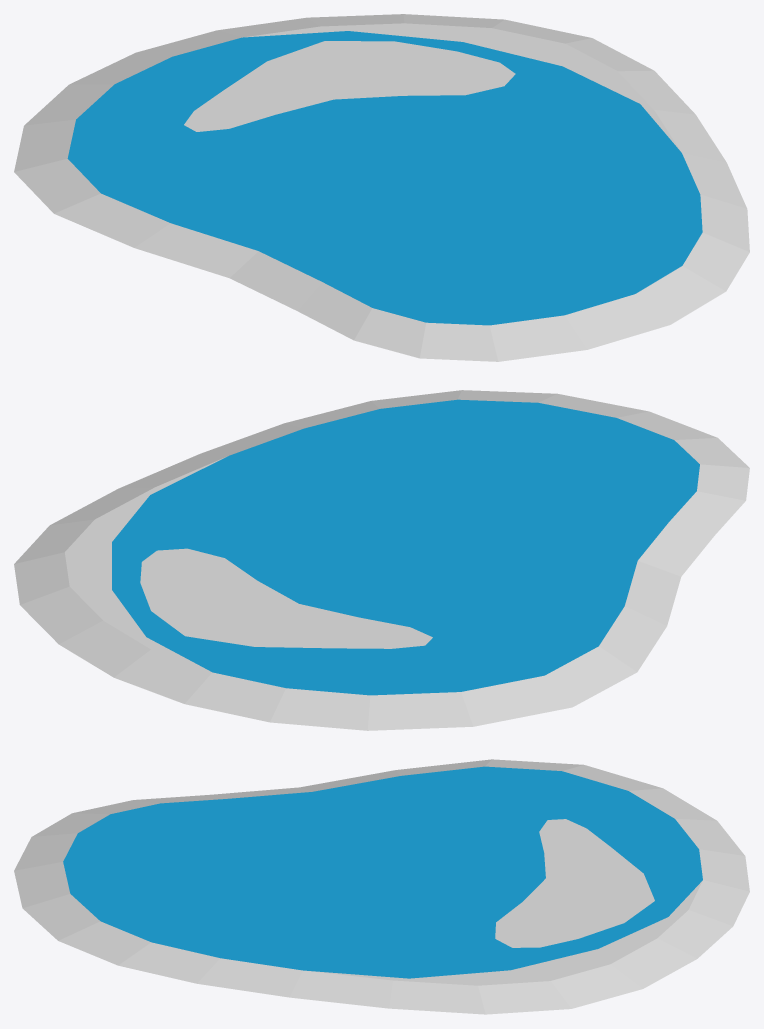
File: Water.fbx
The picture shows the model from 3 angles, top to bottom: view 1: azimuth 30°, elevation 25°; view 2: azimuth 150°, elevation 25°; view 3: azimuth 270°, elevation 25°; orthographic projection. The views are drawn at different scales.
Visible parts, largest first — view 1: Water; view 2: Water; view 3: Water.
Part boxes in pixels (<box>): Water: <box>14,14,749,361</box>; Water: <box>14,390,749,730</box>; Water: <box>14,759,749,1014</box>.
Bounding box in the file's own units: 1.56 × 0.0396 × 1.9.
